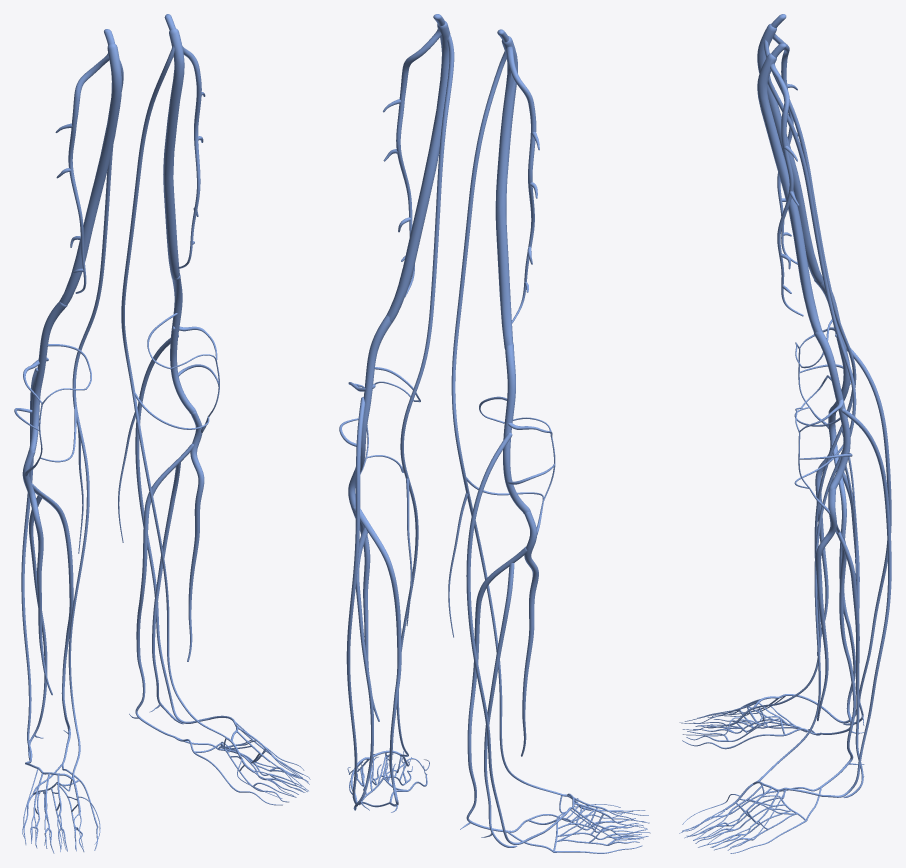
File: veines-membre-inf.hi.glb
3 views of the same model, side by side, from view 1: azimuth 30°, elevation 25°; view 2: azimuth 150°, elevation 25°; view 3: azimuth 270°, elevation 25° (orthographic). The views are drawn at different scales.
Visible parts, largest first — view 1: FJ2103, FJ2144, FJ2102, FJ2145, FJ2121, FJ2118, FJ2135, FJ2183, FJ2193, FJ2176, FJ2173, FJ2171 (+6 smaller); view 2: FJ2145, FJ2144, FJ2103, FJ2102, FJ2176, FJ2121, FJ2118, FJ2173, FJ2135, FJ2171, FJ2099, FJ2193 (+5 smaller); view 3: FJ2103, FJ2102, FJ2145, FJ2144, FJ2121, FJ2176, FJ2099, FJ2117, FJ2183, FJ2187, FJ2118, FJ2173 (+9 smaller).
Boxes of the visible parts, box(x1,y1,x2,y2) form: FJ2103: box(118, 46, 226, 737); FJ2144: box(59, 43, 121, 309); FJ2102: box(163, 28, 184, 281); FJ2145: box(68, 60, 123, 775); FJ2121: box(135, 335, 209, 723); FJ2118: box(135, 443, 193, 737); FJ2135: box(68, 29, 114, 293); FJ2183: box(187, 412, 204, 661); FJ2193: box(22, 450, 52, 695); FJ2176: box(21, 367, 38, 763); FJ2173: box(31, 483, 73, 763); FJ2171: box(29, 301, 67, 452); FJ2145: box(448, 51, 563, 796); FJ2144: box(495, 36, 517, 349); FJ2103: box(396, 34, 454, 756); FJ2102: box(387, 21, 450, 322); FJ2176: box(466, 432, 544, 844); FJ2121: box(346, 397, 365, 806); FJ2118: box(353, 506, 401, 806); FJ2173: box(466, 546, 527, 832); FJ2135: box(497, 29, 536, 323); FJ2171: box(503, 343, 530, 514); FJ2099: box(396, 14, 445, 296); FJ2193: box(521, 512, 538, 756); FJ2103: box(759, 76, 856, 781); FJ2102: box(757, 53, 822, 332); FJ2145: box(758, 39, 856, 707); FJ2144: box(757, 24, 822, 284); FJ2121: box(822, 408, 891, 797); FJ2176: box(821, 347, 891, 723); FJ2099: box(770, 43, 803, 316); FJ2117: box(814, 331, 850, 490); FJ2183: box(815, 488, 836, 720); FJ2187: box(836, 532, 863, 797); FJ2118: box(820, 524, 855, 787); FJ2173: box(820, 443, 855, 734).
Size of the model in its own units: 0.3399 by 0.8957 by 0.2272.
